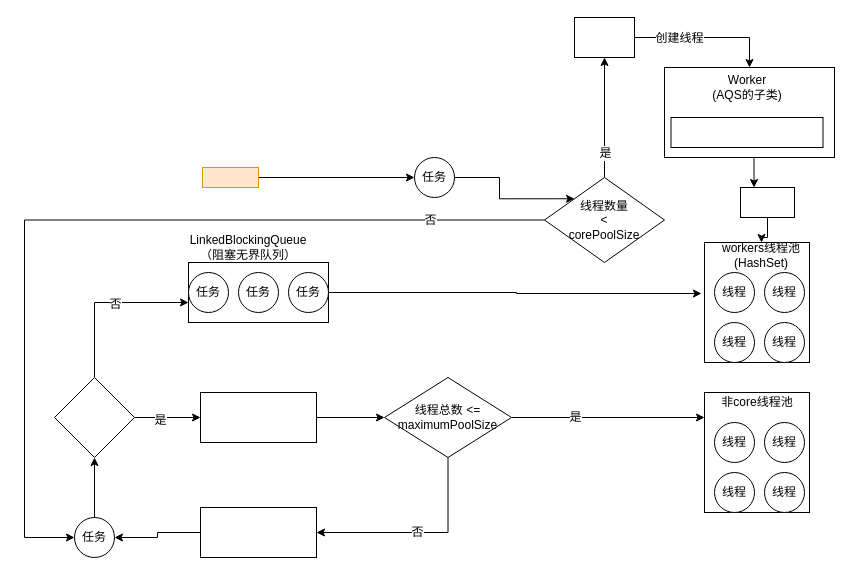
Some shapes in this 852 by 575 pixel diagram are drawn without their labels. Here are the shapes that lost their labels. From the top down, the centre of each, then its label:
the point at 604,37: CAS递增线程数量
the point at 746,132: thread (基于threadFactory创建)
the point at 230,177: 开始
the point at 767,202: 独占锁，加锁
the point at 94,417: 队列是否已满
the point at 258,417: 创建非核心线程
the point at 258,532: reject任务的提交
